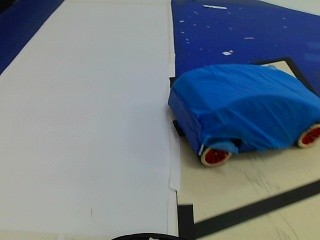car: (163, 66, 318, 166)
